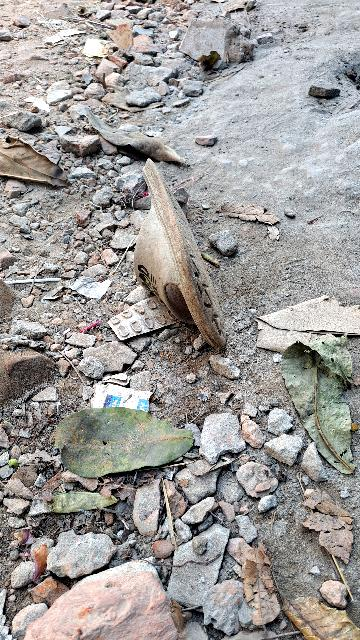sandal: (113, 147, 246, 385)
